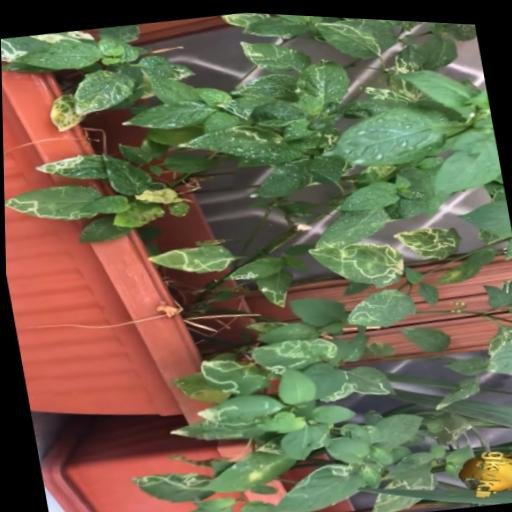Leaf_Miner: (308, 228, 411, 295), (260, 450, 368, 512), (174, 111, 288, 165), (3, 173, 102, 231), (244, 327, 340, 379), (194, 383, 289, 431), (164, 406, 267, 448), (287, 49, 355, 112), (142, 234, 234, 280), (127, 461, 215, 509), (308, 198, 393, 247), (359, 463, 442, 512), (339, 278, 420, 328), (67, 62, 140, 117), (239, 26, 315, 76), (389, 214, 466, 262), (196, 347, 268, 398), (313, 13, 384, 62), (224, 65, 302, 109), (30, 146, 108, 188), (384, 37, 432, 100), (339, 354, 397, 398), (218, 246, 287, 281), (236, 10, 313, 40), (73, 207, 134, 244), (252, 263, 300, 307), (45, 87, 90, 133), (1, 30, 54, 69), (356, 73, 411, 108), (428, 404, 474, 443), (478, 313, 512, 355), (478, 264, 512, 304), (314, 371, 359, 401), (240, 311, 289, 334), (218, 9, 274, 27)
